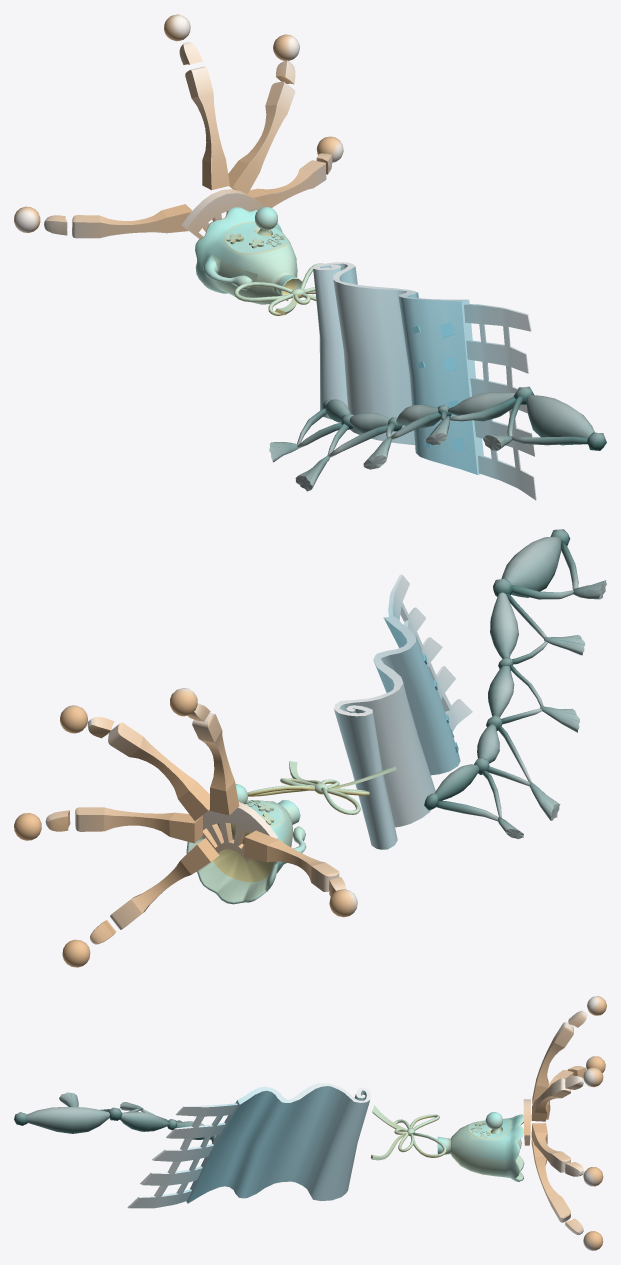
Rendered from Arm_Mercy_A.fbx.
3 renders of one model, top to bottom at view 1: azimuth 30°, elevation 25°; view 2: azimuth 150°, elevation 25°; view 3: azimuth 270°, elevation 25°, orthographic. The views are drawn at different scales.
Parts seen in each view (by area): view 1: Scarf, Tie, Cup, finger_1, finger_2, finger_3, finger_4, Plam, BowTie; view 2: Scarf, Tie, Cup, finger_2, finger_4, finger_5, finger_1, finger_3, Plam, BowTie; view 3: Scarf, Cup, Tie, finger_1, finger_5, finger_4, finger_2, BowTie, finger_3.
Boxes of the visible parts, x1,y1,x2,y2 form: Scarf: (313, 262, 536, 500); Tie: (269, 386, 606, 491); Cup: (195, 207, 302, 304); finger_1: (164, 14, 229, 190); finger_2: (228, 34, 299, 193); finger_3: (14, 204, 192, 238); finger_4: (248, 136, 343, 207); Plam: (182, 189, 264, 238); BowTie: (234, 263, 323, 315); Scarf: (334, 574, 472, 849); Tie: (424, 529, 606, 839); Cup: (186, 784, 306, 904); finger_2: (60, 705, 209, 820); finger_4: (14, 807, 202, 843); finger_5: (62, 838, 219, 967); finger_1: (170, 688, 239, 815); finger_3: (244, 830, 357, 917); Plam: (202, 802, 277, 861); BowTie: (247, 761, 396, 814); Scarf: (127, 1083, 370, 1208); Cup: (437, 1112, 524, 1181); Tie: (14, 1092, 216, 1142); finger_1: (532, 996, 606, 1104); finger_5: (531, 1139, 603, 1250); finger_4: (531, 1123, 603, 1186); finger_2: (531, 1067, 603, 1121); BowTie: (371, 1105, 446, 1160); finger_3: (546, 1056, 605, 1119).
Bounding box in the file's own units: 31.6 × 27 × 67.42.
